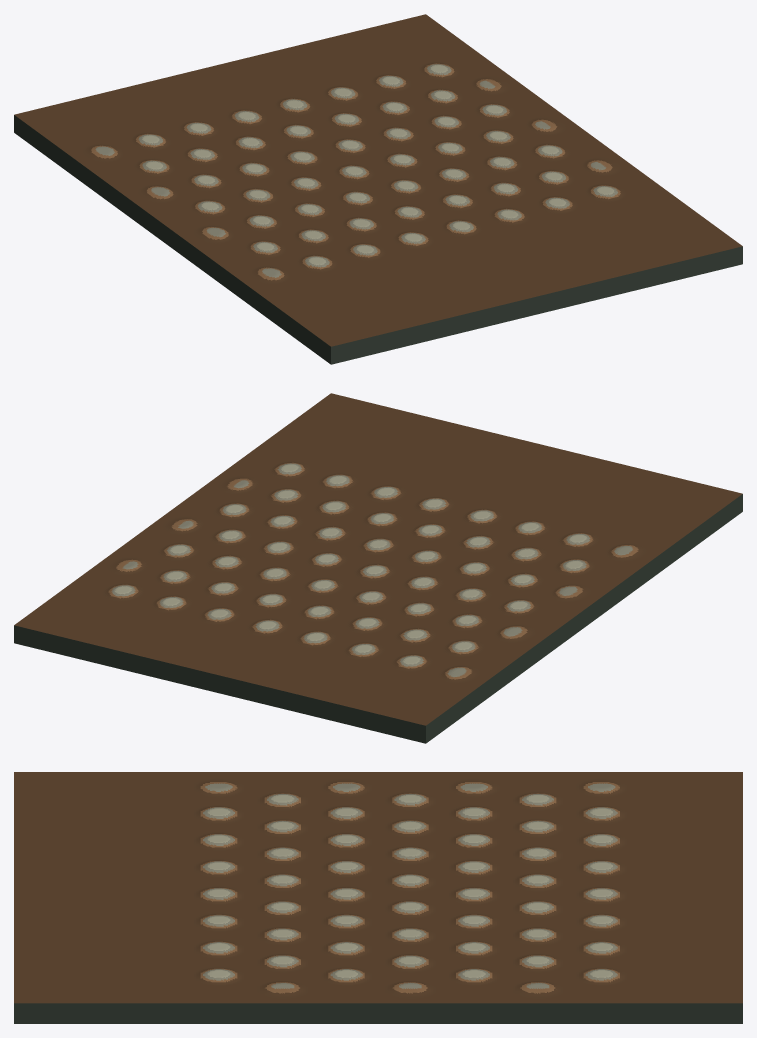
File: caster_stress_staggered_l1.dae
3 renders of one model, top to bottom at view 1: azimuth 30°, elevation 25°; view 2: azimuth 150°, elevation 25°; view 3: azimuth 270°, elevation 25°, orthographic. The views are drawn at different scales.
Visible parts, largest first — view 1: terrain_node; view 2: terrain_node; view 3: terrain_node.
Part boxes in pixels (x1=…): terrain_node: x1=14, y1=14, x2=742, y2=364; terrain_node: x1=14, y1=393, x2=742, y2=743; terrain_node: x1=14, y1=772, x2=742, y2=1023.
Bounding box in the file's own units: 6 × 8 × 0.28.
